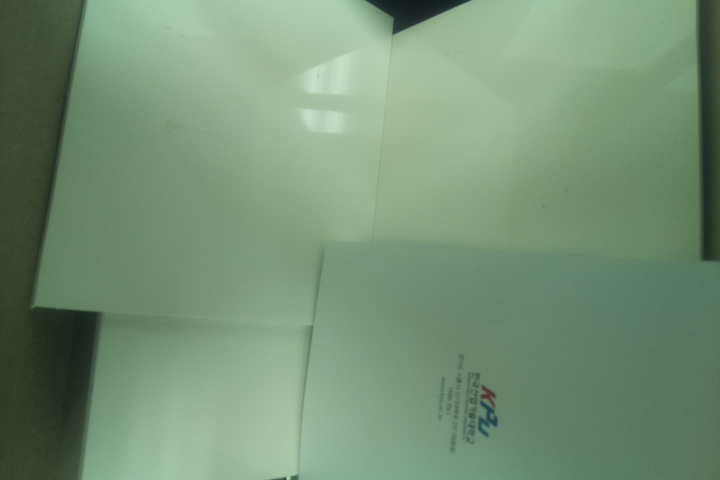book: (292, 236, 720, 479)
